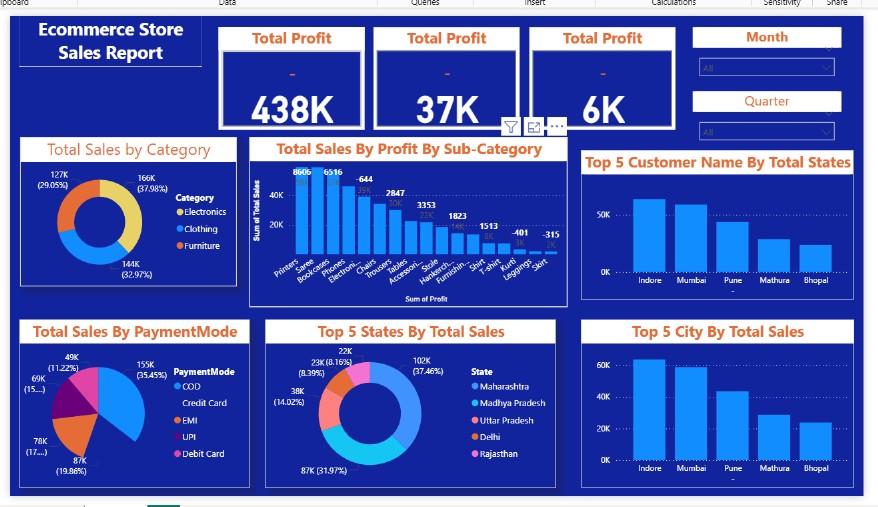

What the dashboard file says about the page in this screenshot:
{"tool":"powerbi","page":{"name":"Page 1","canvas":[1280,720],"ordinal":0},"visuals":[{"type":"textbox","title":"Ecommerce Store Sales Report","box":[13.3,0,273.9,76],"z":0},{"type":"cardVisual","title":"Total Profit","fields":{"Data":["Sum(Details.Profit)"]},"box":[545.3,15.7,219.6,154.4],"z":1000},{"type":"donutChart","fields":{"Y":["Sum(Details.Total Sales)"],"Category":["Details.Category"]},"box":[14.5,181,324.5,224.4],"z":2000},{"type":"cardVisual","title":"Total Profit","fields":{"Data":["Sum(Details.Total Sales)"]},"box":[312.5,15.7,219.6,154.4],"z":3000},{"type":"cardVisual","title":"Total Profit","fields":{"Data":["Sum(Details.Quantity)"]},"box":[779.4,15.7,219.6,154.4],"z":4000},{"type":"columnChart","title":"Total Sales By Profit By Sub-Category","fields":{"Y":["Sum(Details.Total Sales)"],"Category":["Details.Sub-Category"]},"box":[359.2,181,477.5,255.1],"z":5000},{"type":"slicer","title":"Month","fields":{"Values":["Orders.Order Date.Variation.Date Hierarchy.Month"]},"box":[1024.3,15.7,223.2,88.1],"z":6000},{"type":"slicer","title":"Quarter","fields":{"Values":["Orders.Order Date.Variation.Date Hierarchy.Quarter"]},"box":[1024.3,112.2,223.2,88.1],"z":7000},{"type":"columnChart","title":"Top 5 Customer Name By Total States","fields":{"Category":["Orders.City"],"Y":["Sum(Details.Total Sales)"]},"box":[856.7,201,409.1,223.8],"z":8000},{"type":"pieChart","title":"Total Sales By PaymentMode","fields":{"Y":["Sum(Details.Total Sales)"],"Category":["Details.PaymentMode"]},"box":[13.7,455.6,345.8,252.5],"z":9000},{"type":"donutChart","title":"Top 5 States By Total Sales ","fields":{"Category":["Orders.State"],"Y":["Sum(Details.Total Sales)"]},"box":[382.8,455.6,436.4,252.5],"z":10000},{"type":"columnChart","title":"Top 5 City By Total Sales","fields":{"Y":["Sum(Details.Total Sales)"],"Category":["Orders.City"]},"box":[856.3,455.2,409.3,252.1],"z":10001}]}

Visuals, with their boxes in screenshot pixels (x1, y1, x2, y2):
"Ecommerce Store Sales Report" textbox: region(9, 11, 194, 63)
"Total Profit" cardVisual: region(369, 22, 517, 126)
donutChart - Sum(Details.Total Sales) x Details.Category: region(10, 134, 229, 286)
"Total Profit" cardVisual: region(211, 22, 360, 126)
"Total Profit" cardVisual: region(527, 22, 676, 126)
"Total Sales By Profit By Sub-Category" columnChart: region(243, 134, 566, 306)
"Month" slicer: region(693, 22, 844, 82)
"Quarter" slicer: region(693, 87, 844, 147)
"Top 5 Customer Name By Total States" columnChart: region(580, 147, 856, 299)
"Total Sales By PaymentMode" pieChart: region(9, 320, 243, 490)
"Top 5 States By Total Sales " donutChart: region(259, 320, 554, 490)
"Top 5 City By Total Sales" columnChart: region(579, 319, 856, 490)
